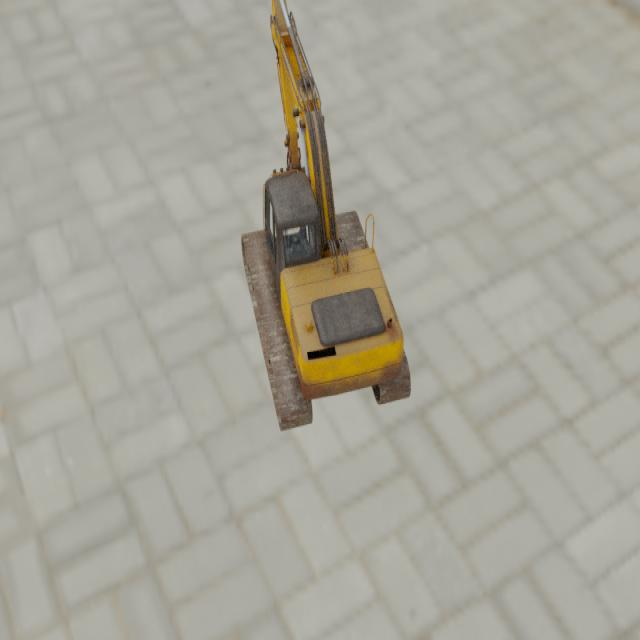excavator: (240, 0, 411, 433)
